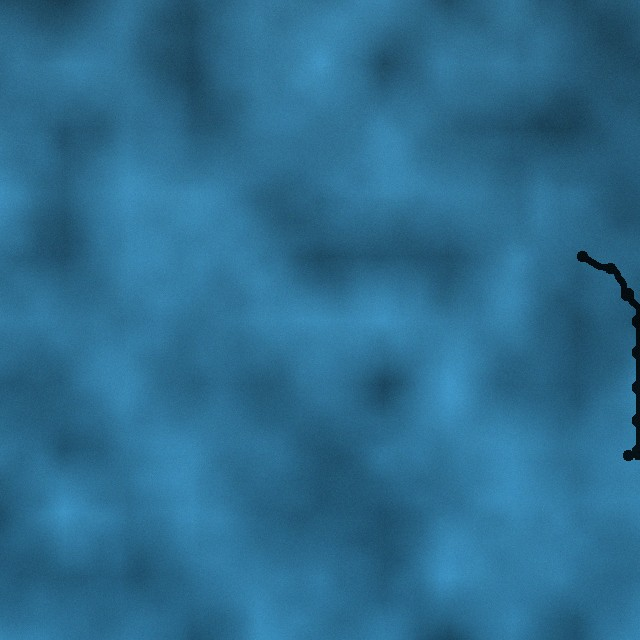crack: (576, 250, 639, 464)
